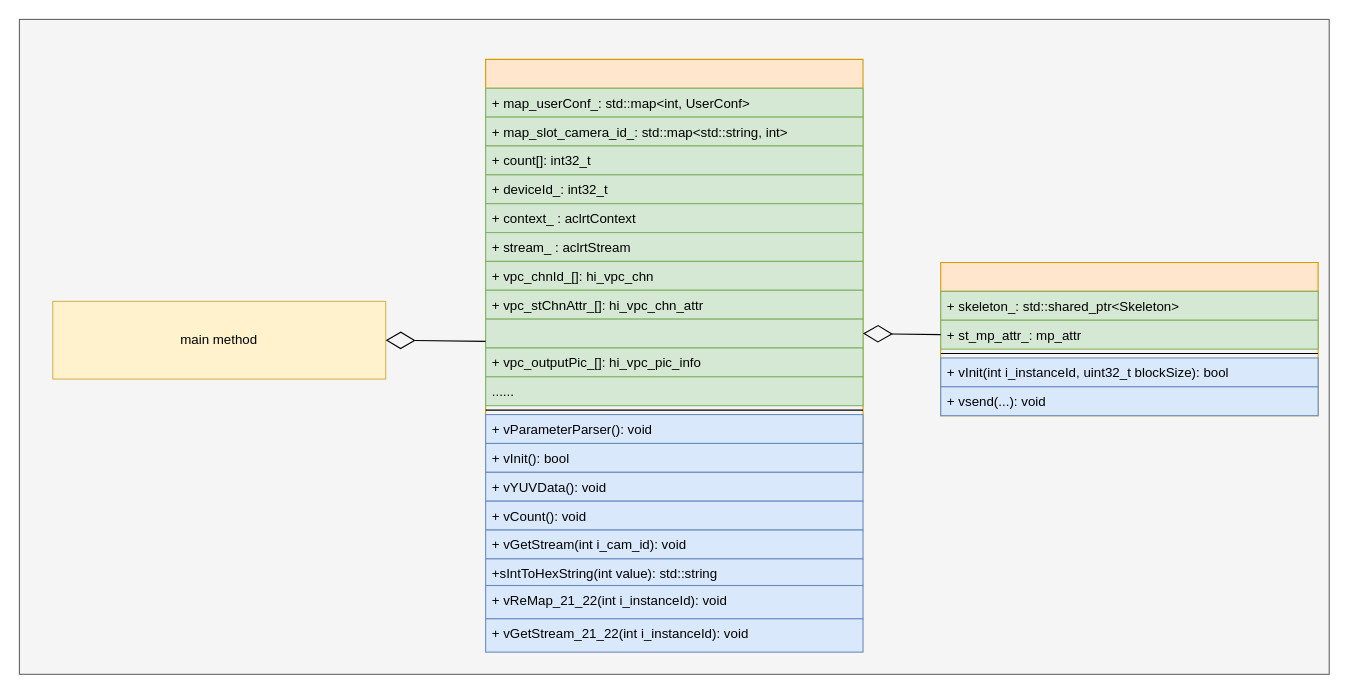
Image size: 1349x694. Some labels were removed from this diagram. The box of each missing label's shape, as (x1, y1, x2, y2) in pixels:
+ vpc_inputPic_[]: hi_vpc_pic_info: (485, 318, 863, 348)
camera_app_application: (485, 58, 863, 472)
camera_app_skeleton: (940, 261, 1318, 416)
